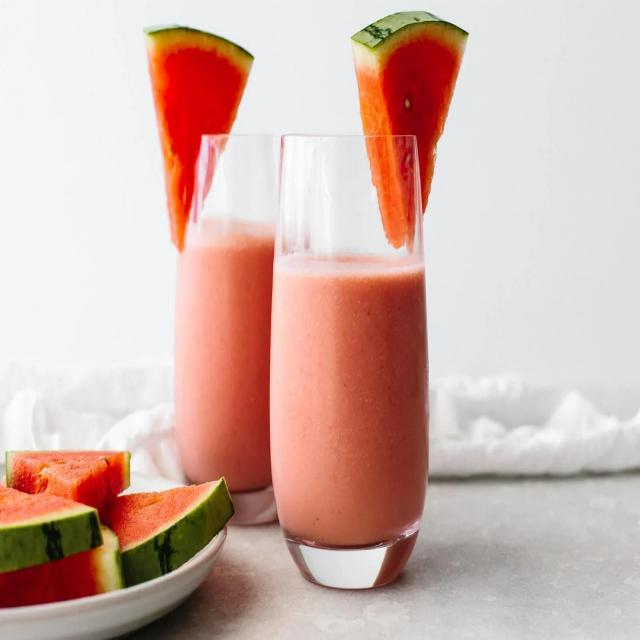watermelon: (341, 8, 479, 262), (136, 20, 252, 266), (90, 477, 240, 584), (0, 523, 123, 611), (0, 489, 112, 582), (3, 444, 138, 516)
